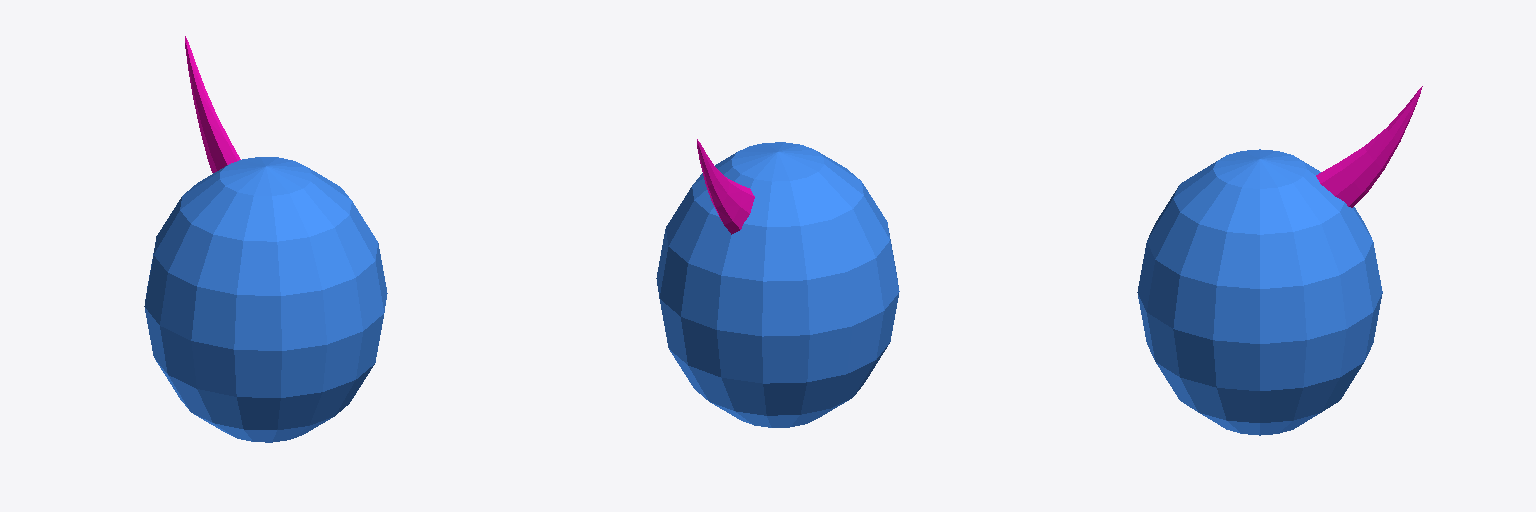
Rendered from RemEgg.obj.
3 views of the same model, side by side, from view 1: azimuth 30°, elevation 25°; view 2: azimuth 150°, elevation 25°; view 3: azimuth 270°, elevation 25° (orthographic).
Parts seen in each view (by area): view 1: Egg_Sphere, Cube_Cube.001; view 2: Egg_Sphere, Cube_Cube.001; view 3: Egg_Sphere, Cube_Cube.001.
Boxes of the visible parts, box(x1,y1,x2,y2) form: Egg_Sphere: box(144, 157, 387, 442); Cube_Cube.001: box(185, 36, 240, 172); Egg_Sphere: box(656, 142, 899, 427); Cube_Cube.001: box(697, 139, 754, 234); Egg_Sphere: box(1137, 149, 1382, 435); Cube_Cube.001: box(1316, 86, 1422, 207).
Bounding box in the file's own units: 2 × 3.06 × 2.33.